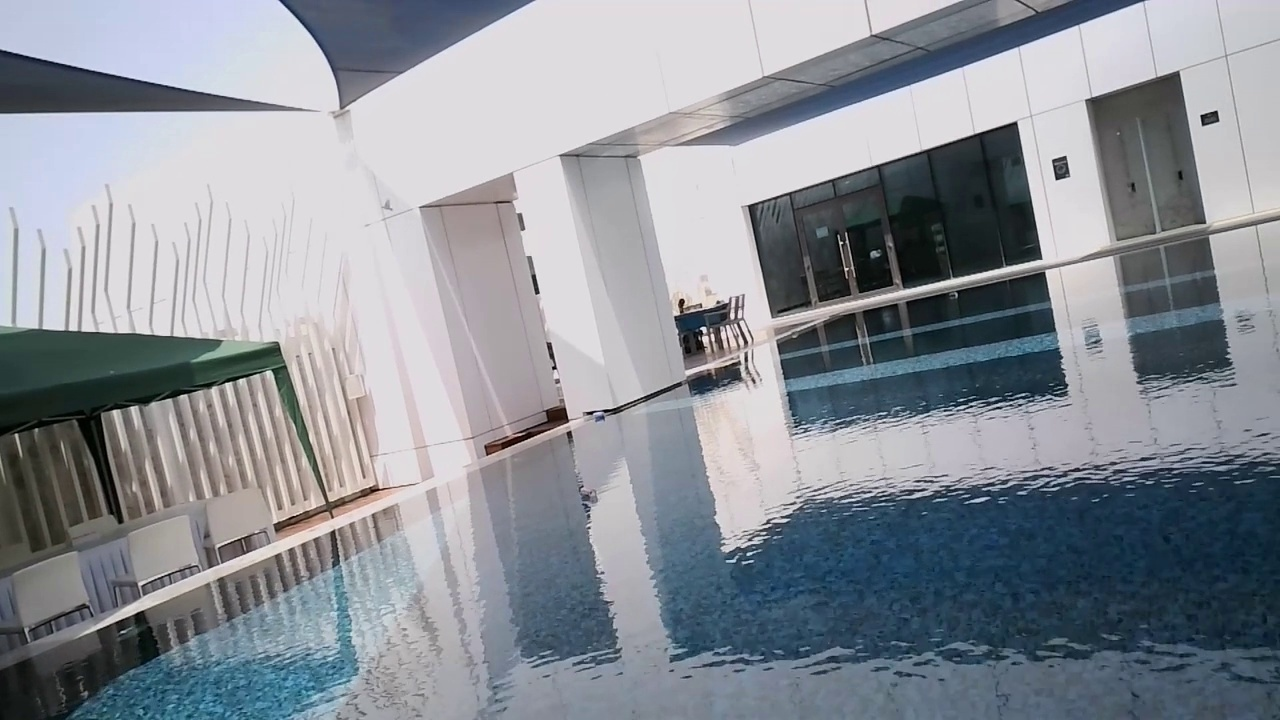debris: (572, 482, 599, 504), (590, 409, 608, 424), (944, 290, 962, 301)
